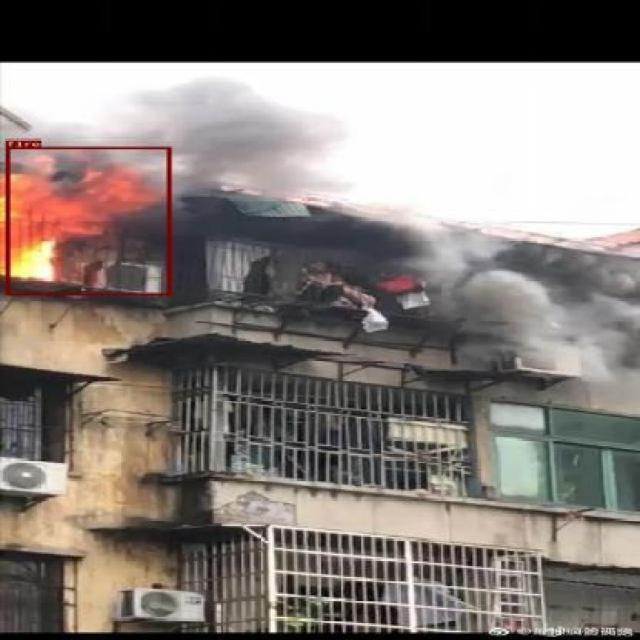Fire: (88, 148, 166, 221)
